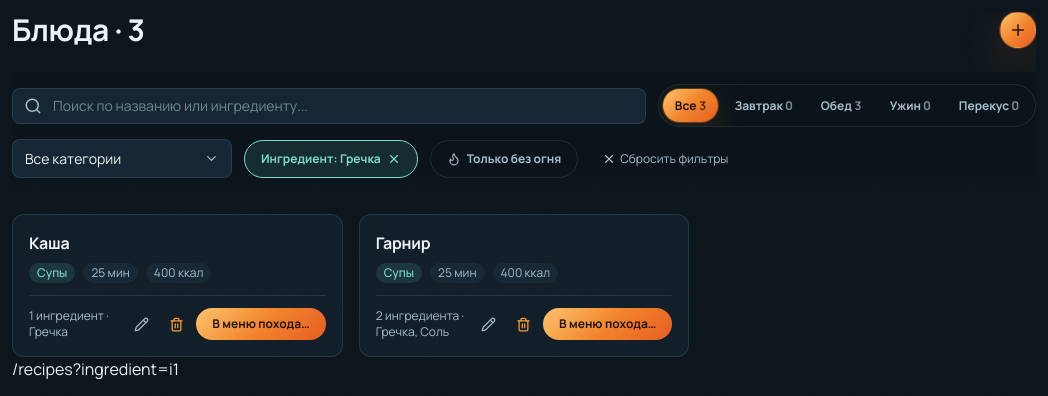
Test case: RecipesPage — ?ingredient= (navigation-п.6) › клик по ✕ чипа снимает фильтр и убирает параметр из URL (shareable)
Expected: the heading "Каша" is shown, x1=29 y1=232 x2=70 y2=254
Step 1. Click the button with test id "recipes-ingredient-chip" → (331, 158), box x1=244 y1=140 x2=418 y2=178
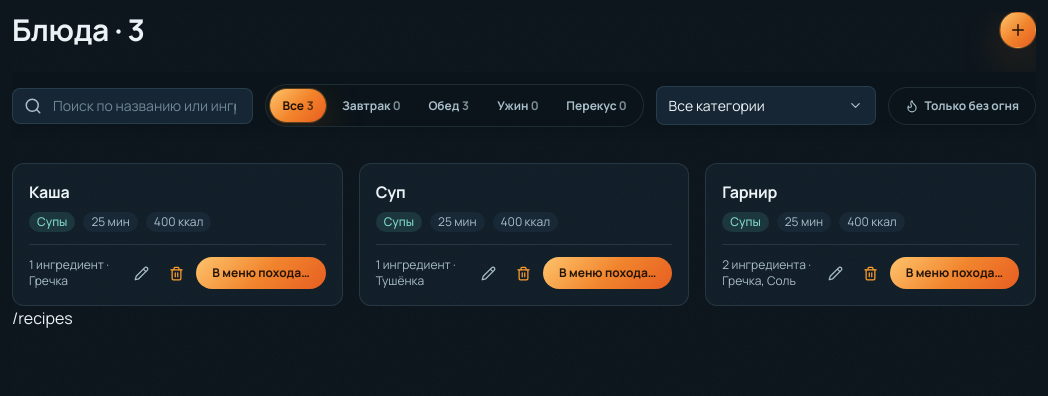
Result: the heading "Суп" is shown at x1=376 y1=181 x2=406 y2=203
Result: the text with test id "loc" no longer shows "ingredient="
